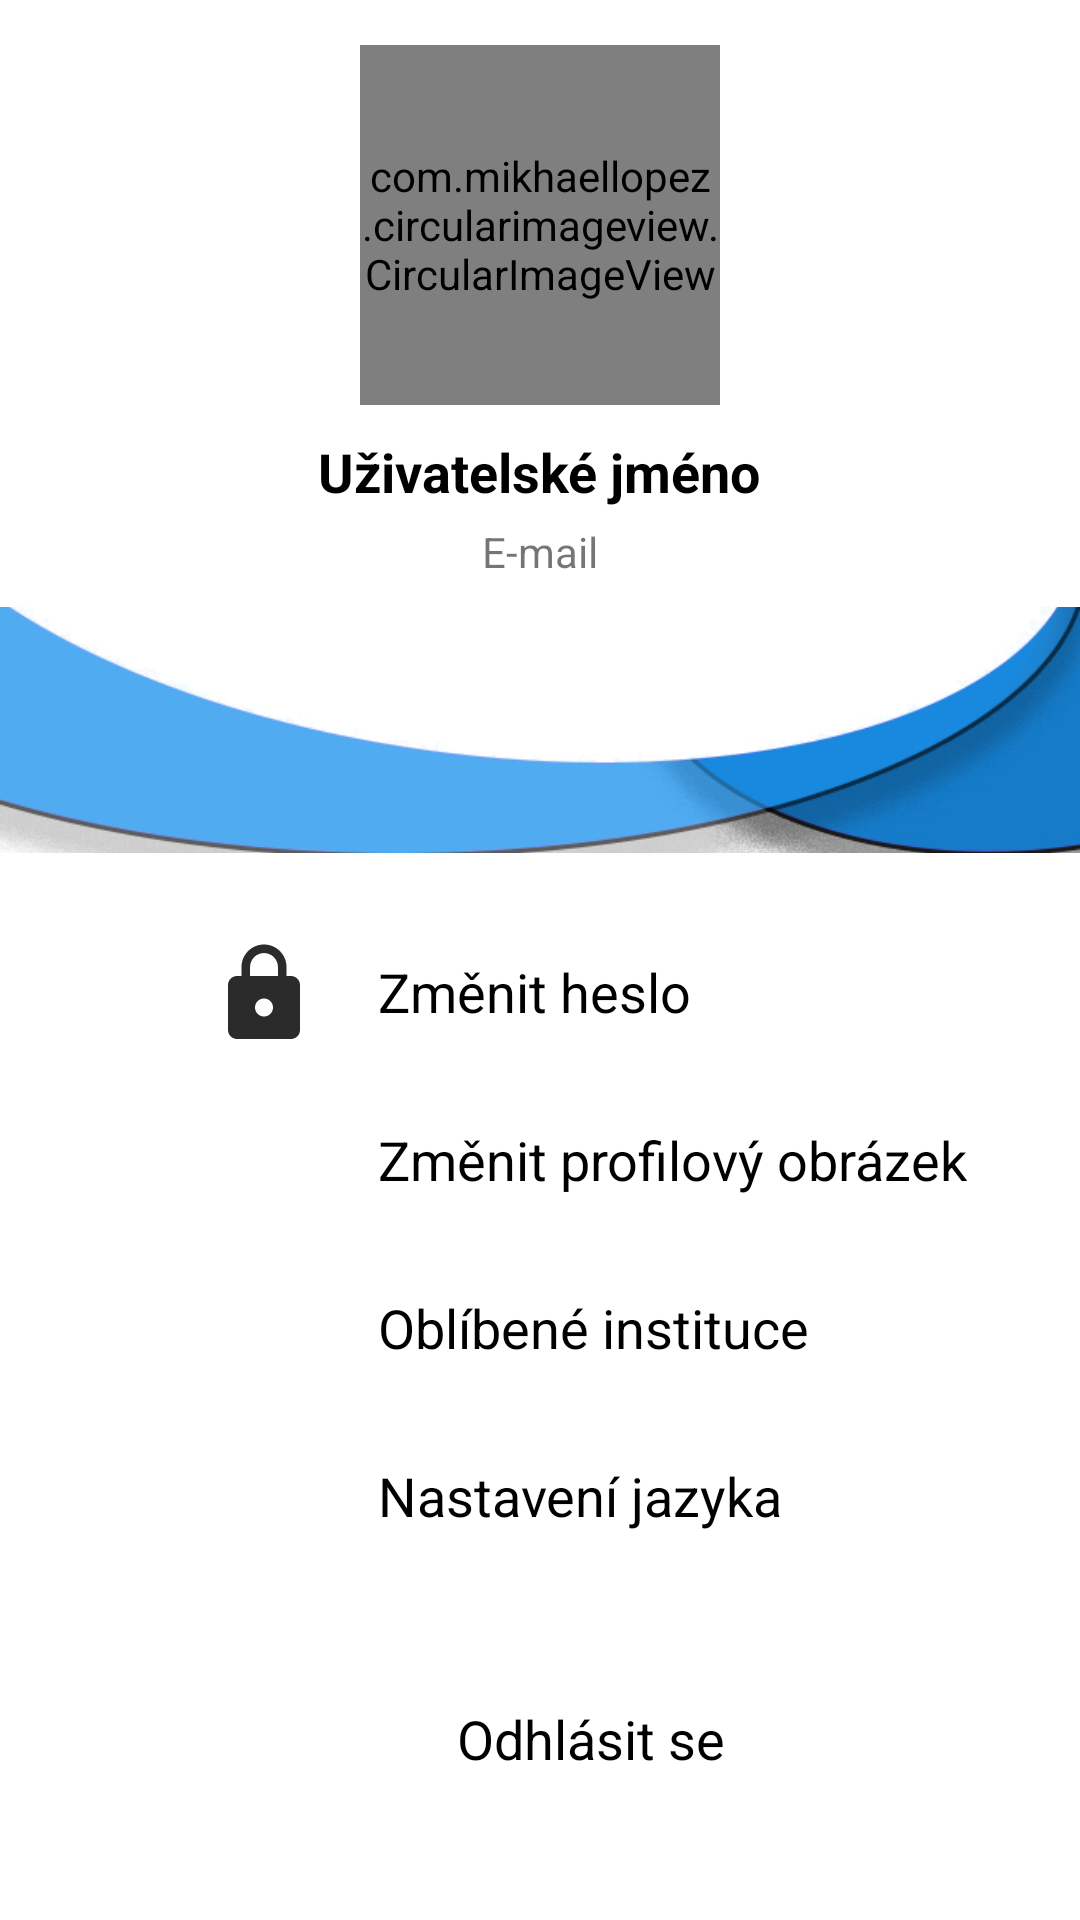

Where to tap for icons on this 1080×1920 app screen, as (x=x, y=y):
Ikona změny hesla: (x=264, y=991)
